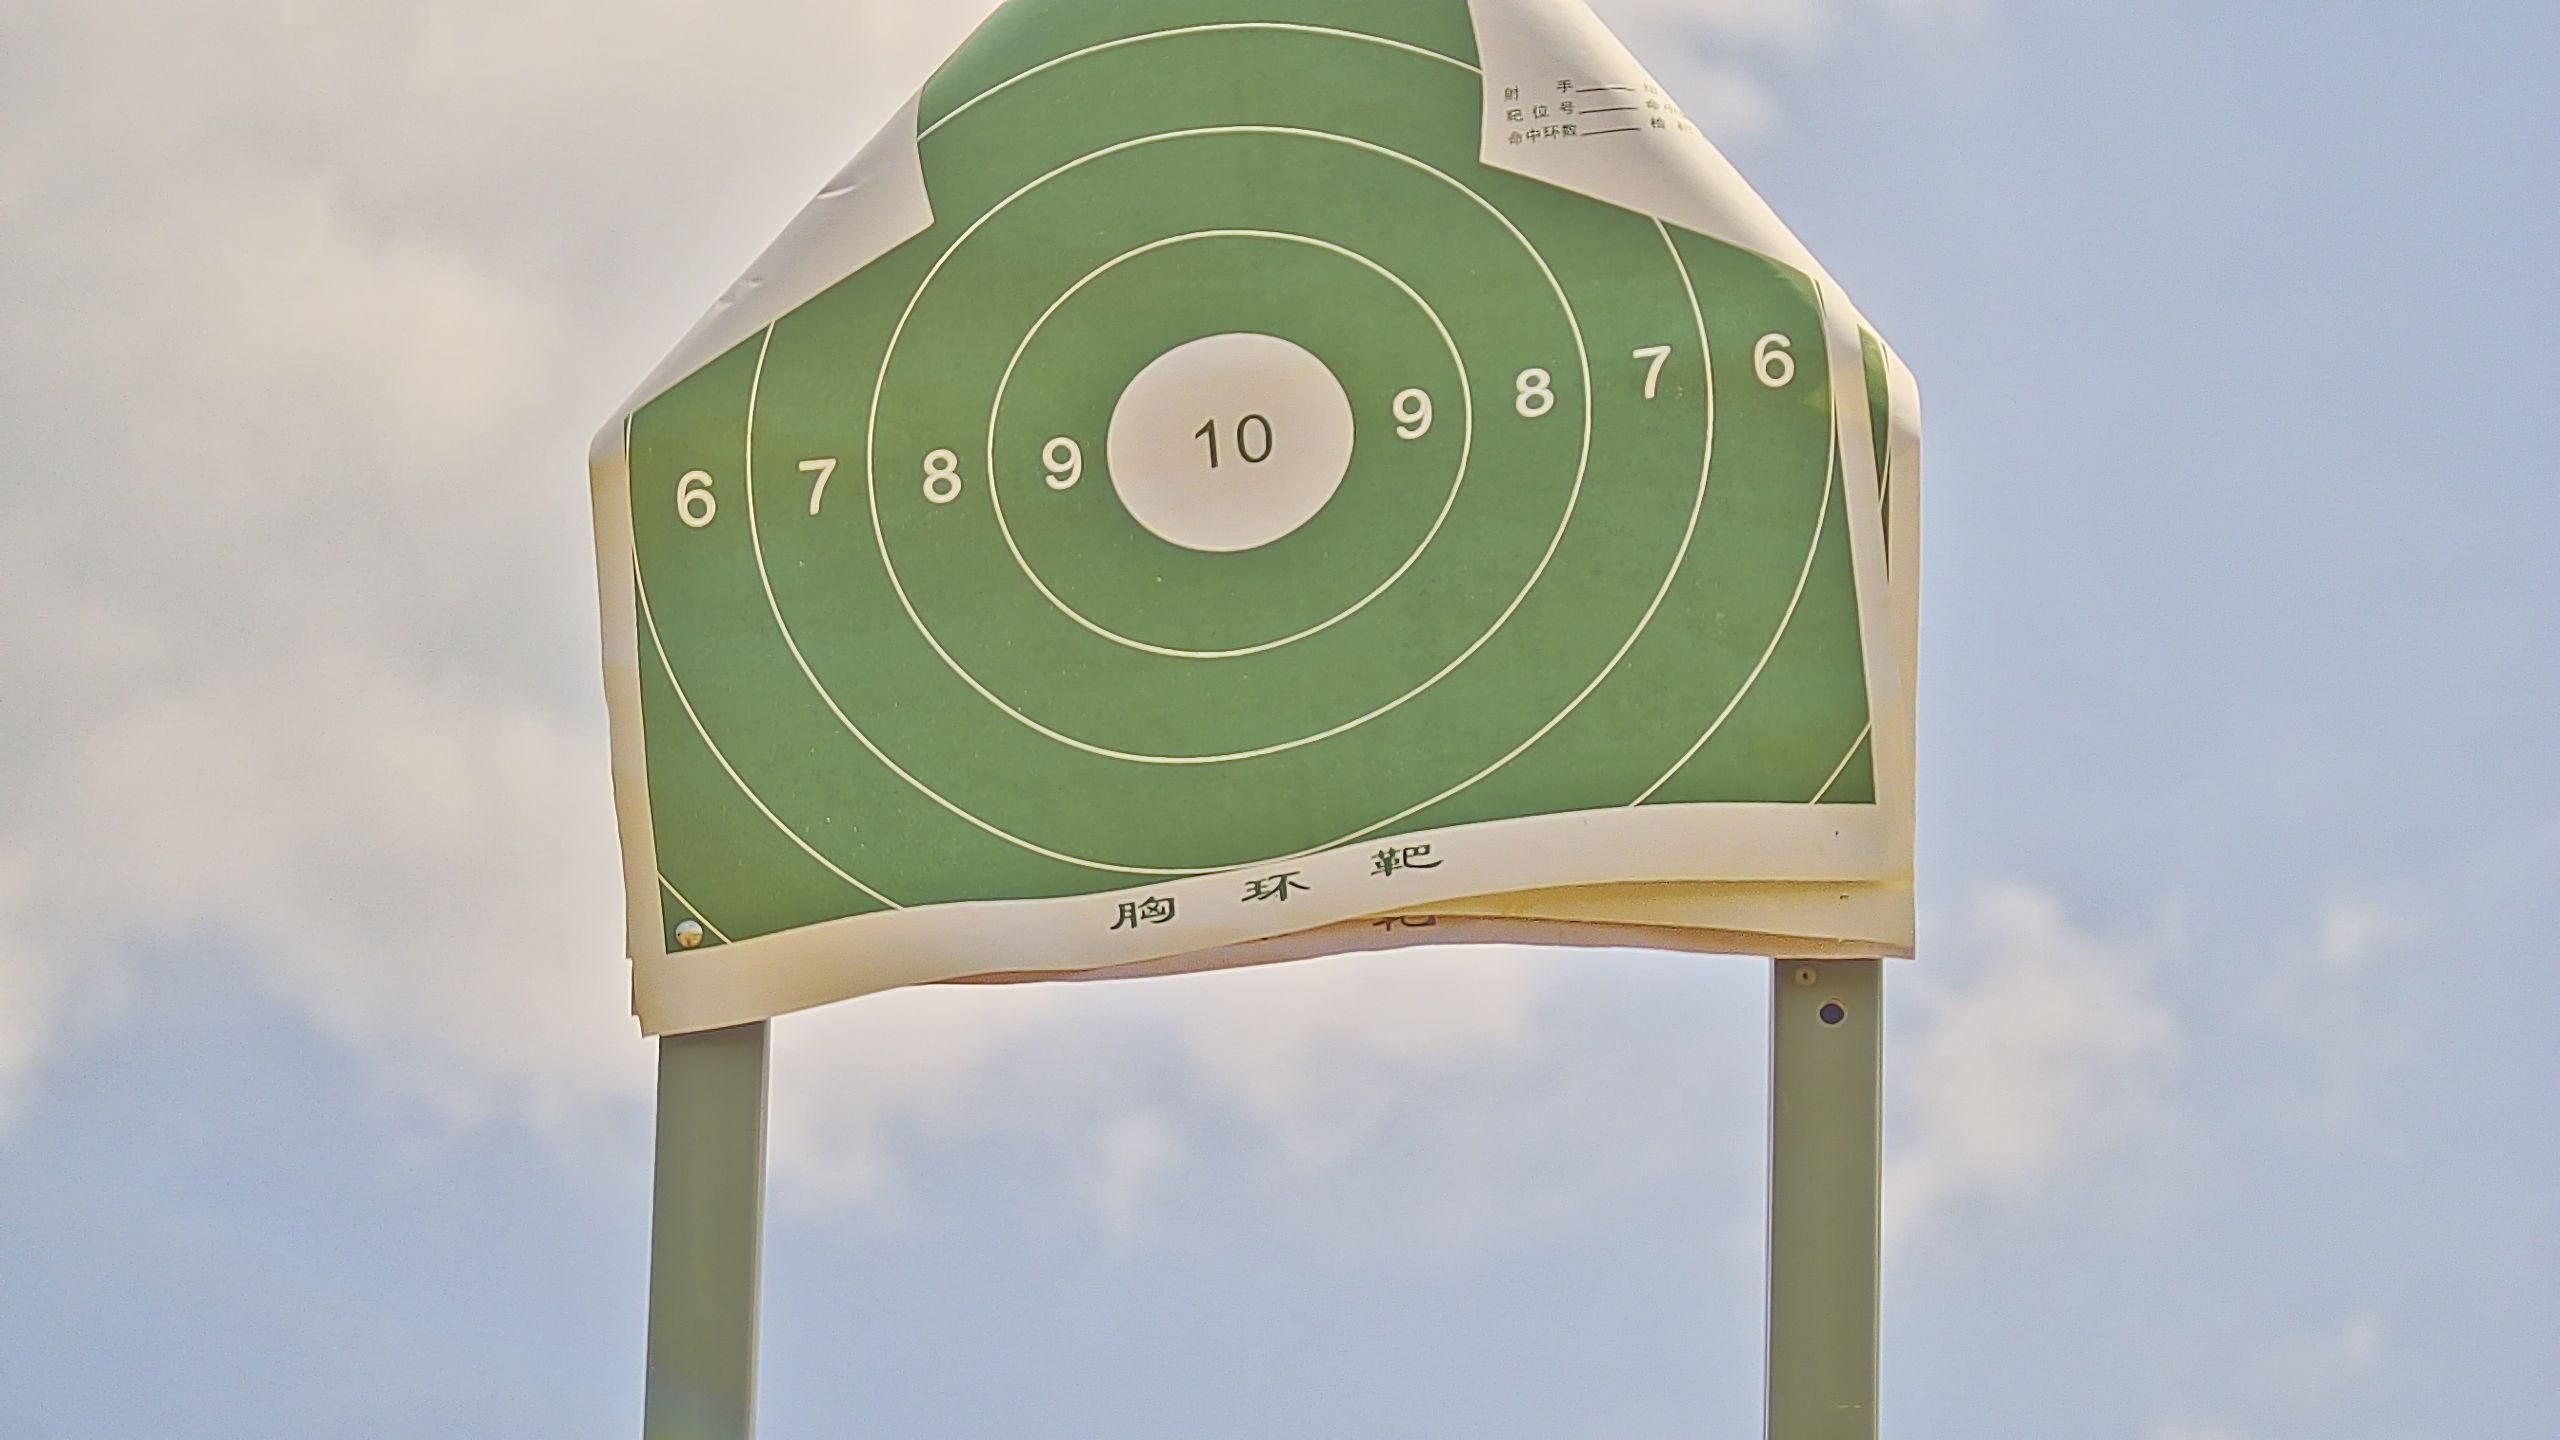target: (622, 7, 1883, 969)
ten: (1102, 331, 1354, 556)
